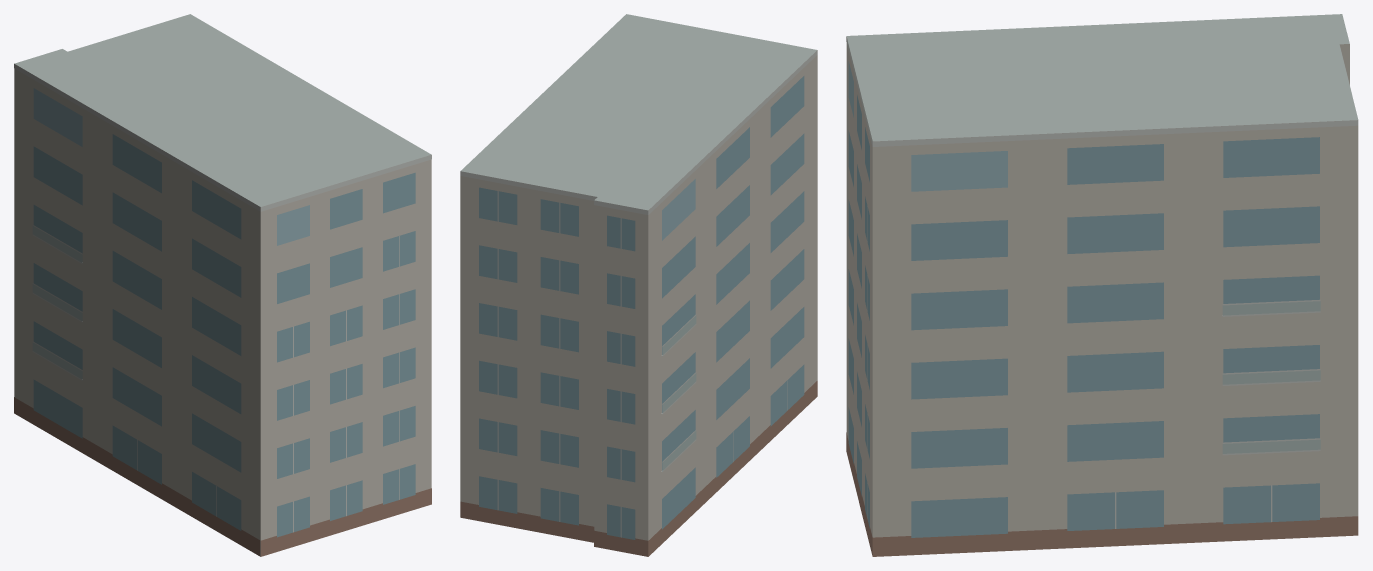
The model's file is survey-upis-32652877.glb.
3 renders of one model, left to right at view 1: azimuth 30°, elevation 25°; view 2: azimuth 150°, elevation 25°; view 3: azimuth 270°, elevation 25°, orthographic. The views are drawn at different scales.
Visible parts, largest first — view 1: survey-upis-32652877.tmp; view 2: survey-upis-32652877.tmp; view 3: survey-upis-32652877.tmp.
Part boxes in pixels (x1,y1,x2,y2): survey-upis-32652877.tmp: (14,14,431,556); survey-upis-32652877.tmp: (460,14,817,556); survey-upis-32652877.tmp: (846,14,1358,556).
Bounding box in the file's own units: 11.85 × 18 × 20.11.
